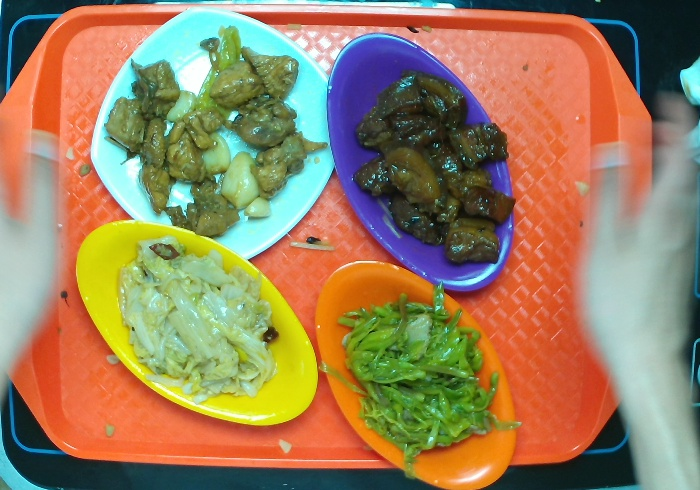RJxy-Fen_Hong_Tuo_Yuan: (322, 23, 520, 298)
RJxy-Huang_Se_Tuo_Yuan: (70, 214, 322, 433)
RJxy-Ju_Huang_Tuo_Yuan: (312, 259, 523, 490)
RJxy-Si_Fang_Die: (87, 1, 342, 257)
